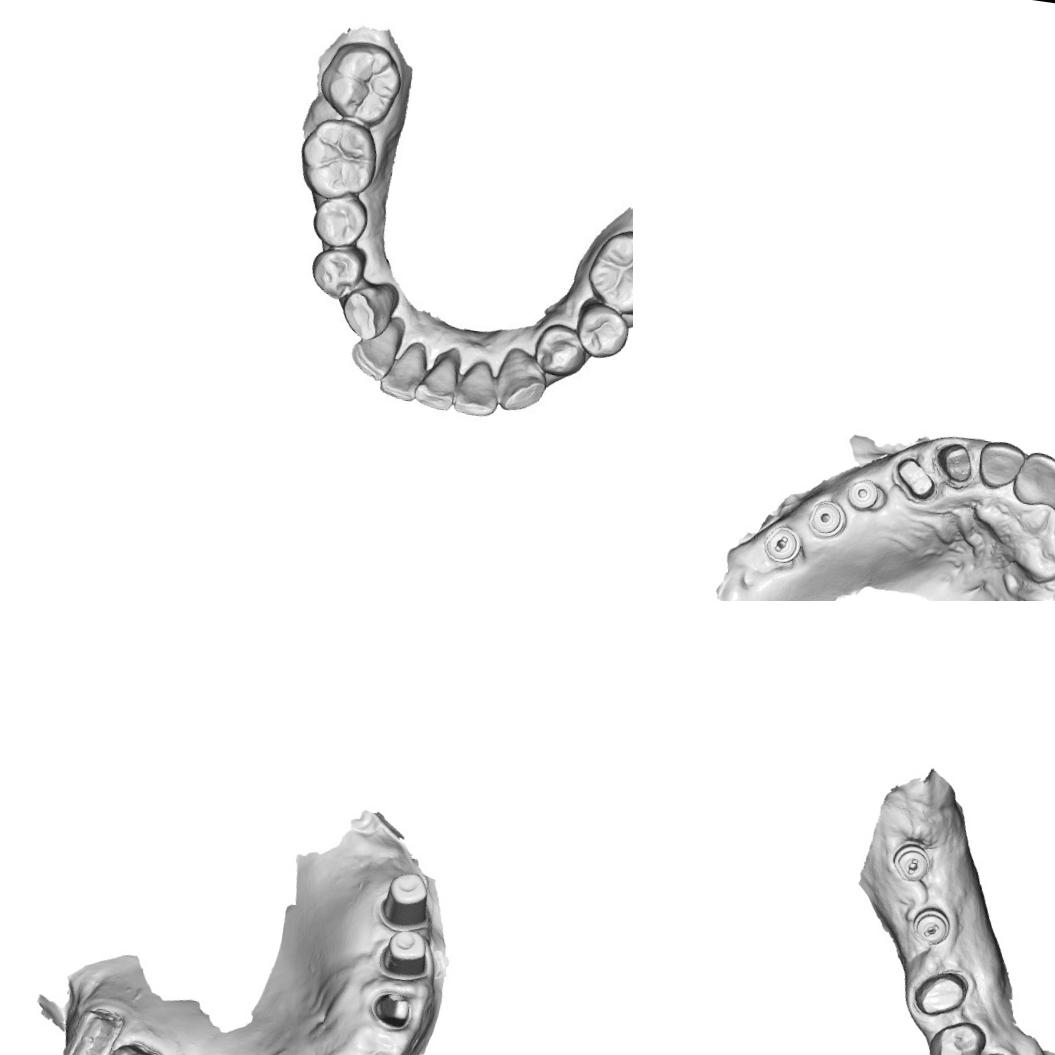abutment: (376, 866, 438, 934), (372, 924, 440, 984), (372, 988, 416, 1032)
canine: (336, 276, 402, 345), (491, 346, 550, 416)
crown: (54, 1001, 125, 1055), (910, 965, 970, 1022), (892, 456, 939, 503), (932, 439, 976, 484), (86, 1035, 163, 1055)
implant: (804, 496, 850, 542), (844, 476, 888, 515)
implant_minus: (888, 836, 935, 886), (760, 523, 806, 566), (909, 904, 953, 948)
incisor: (347, 319, 405, 384), (411, 348, 463, 416), (450, 358, 507, 420), (376, 342, 432, 404), (974, 438, 1028, 494), (1009, 448, 1055, 512)
molar: (313, 32, 409, 128), (292, 112, 386, 207), (580, 223, 633, 321)
premolar: (569, 299, 633, 362), (309, 192, 372, 251), (307, 242, 371, 300), (532, 320, 591, 381), (923, 1016, 988, 1055)
